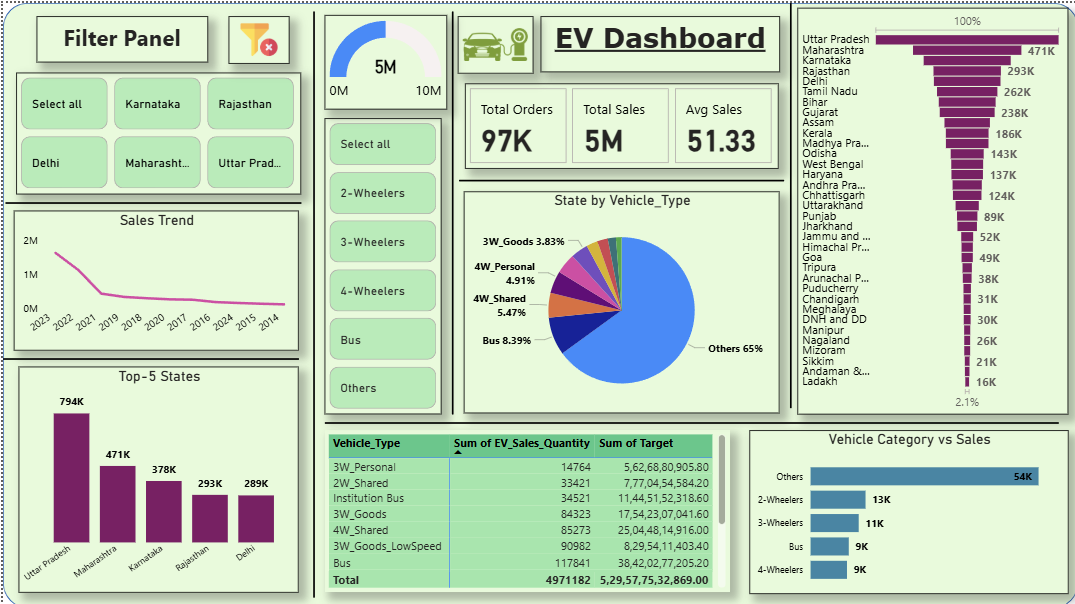

This screenshot's page, from the dashboard's own definition file:
{"tool":"powerbi","page":{"name":"Page 1","canvas":[1280,720],"ordinal":0},"visuals":[{"type":"shape","box":[0,0,1280,720],"z":0},{"type":"cardVisual","fields":{"Data":["EV_Db.Total_Orders","EV_Db.Total_sales","EV_Db.Avg_Sales"]},"box":[550.5,96.2,373.4,101.4],"z":1000},{"type":"lineChart","title":"Sales Trend","fields":{"Category":["EV_Db.Year"],"Y":["Sum(EV_Db.EV_Sales_Quantity)"]},"box":[12.8,247.7,338.8,166.8],"z":2000},{"type":"columnChart","title":"Top-5 States","fields":{"Category":["EV_Db.State"],"Y":["Sum(EV_Db.EV_Sales_Quantity)"]},"box":[19.2,432.4,333.6,269.5],"z":3000},{"type":"funnel","fields":{"Category":["EV_Db.State"],"Y":["Sum(EV_Db.EV_Sales_Quantity)"]},"box":[945.7,5.1,322.1,483.8],"z":4000},{"type":"advancedSlicerVisual","fields":{"Values":["EV_Db.State"]},"box":[15.4,83.4,338.8,145],"z":5000},{"type":"pieChart","title":"State by Vehicle_Type","fields":{"Category":["EV_Db.Vehicle_Type"],"Y":["CountNonNull(EV_Db.State)"]},"box":[549.2,224.6,376,264.3],"z":6000},{"type":"textbox","box":[640.3,15.4,284.9,66.7],"z":7000},{"type":"advancedSlicerVisual","fields":{"Values":["EV_Db.Vehicle_Category"]},"box":[382.5,137.5,139.2,352.5],"z":8000},{"type":"clusteredBarChart","title":"Vehicle Category vs Sales","fields":{"Y":["EV_Db.Total_Orders"],"Category":["EV_Db.Vehicle_Category"]},"box":[888,508.2,379.8,195.1],"z":9000},{"type":"pivotTable","fields":{"Rows":["EV_Db.Vehicle_Type"],"Values":["Sum(EV_Db.EV_Sales_Quantity)","Sum(EV_Db.Target)"]},"box":[382.4,508.2,482.5,192.5],"z":10000},{"type":"image","box":[541.5,15.4,89.8,68],"z":11000},{"type":"image","box":[268.2,15.5,72.7,56.4],"z":12000},{"type":"textbox","box":[40,16,204,54.7],"z":13000},{"type":"gauge","fields":{"Y":["EV_Db.Total_sales"],"TargetValue":["Sum(EV_Db.Target)"]},"box":[382.9,14.3,145.7,112.9],"z":14000},{"type":"shape","box":[354,10,32,698],"z":15000},{"type":"shape","box":[542.9,194.3,387.1,34.3],"z":16000},{"type":"shape","box":[382.9,482.9,874.3,34.3],"z":17000},{"type":"shape","box":[921.4,0,32.9,482.9],"z":18000},{"type":"shape","box":[523.3,10,25,480],"z":19000},{"type":"shape","box":[0,405,352.5,36.2],"z":20000},{"type":"shape","box":[2.5,220,352.5,36.2],"z":21000}]}

Visuals, with their boxes in screenshot pixels (x1, y1, x2, y2), scaled from the page's 1280x720 canvas onto the 1075x604 screenshot:
shape: locate(0, 0, 1074, 603)
cardVisual - EV_Db.Total_Orders x EV_Db.Total_sales: locate(462, 81, 776, 166)
"Sales Trend" lineChart: locate(11, 208, 295, 348)
"Top-5 States" columnChart: locate(16, 363, 296, 589)
funnel - EV_Db.State x Sum(EV_Db.EV_Sales_Quantity): locate(794, 4, 1065, 410)
advancedSlicerVisual - EV_Db.State: locate(13, 70, 297, 192)
"State by Vehicle_Type" pieChart: locate(461, 188, 777, 410)
textbox: locate(538, 13, 777, 69)
advancedSlicerVisual - EV_Db.Vehicle_Category: locate(321, 115, 438, 411)
"Vehicle Category vs Sales" clusteredBarChart: locate(746, 426, 1065, 590)
pivotTable - EV_Db.Vehicle_Type x Sum(EV_Db.EV_Sales_Quantity): locate(321, 426, 726, 588)
image: locate(455, 13, 530, 70)
image: locate(225, 13, 286, 60)
textbox: locate(34, 13, 205, 59)
gauge - EV_Db.Total_sales x Sum(EV_Db.Target): locate(322, 12, 444, 107)
shape: locate(297, 8, 324, 594)
shape: locate(456, 163, 781, 192)
shape: locate(322, 405, 1056, 434)
shape: locate(774, 0, 801, 405)
shape: locate(439, 8, 460, 411)
shape: locate(0, 340, 296, 370)
shape: locate(2, 185, 298, 215)
